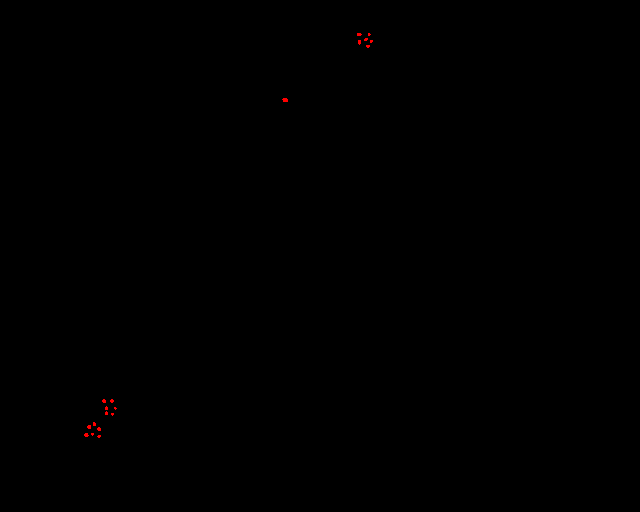Target: (282, 98, 288, 102), (84, 433, 89, 437), (102, 399, 106, 403), (110, 399, 114, 403), (87, 425, 91, 429), (97, 427, 101, 431), (357, 33, 362, 36), (358, 40, 361, 45), (364, 38, 368, 41), (366, 45, 370, 48), (105, 406, 108, 410), (105, 411, 108, 415), (93, 422, 96, 426), (97, 435, 101, 438), (368, 33, 371, 36), (370, 40, 373, 43), (114, 407, 117, 410), (111, 413, 114, 416), (91, 433, 94, 436)
